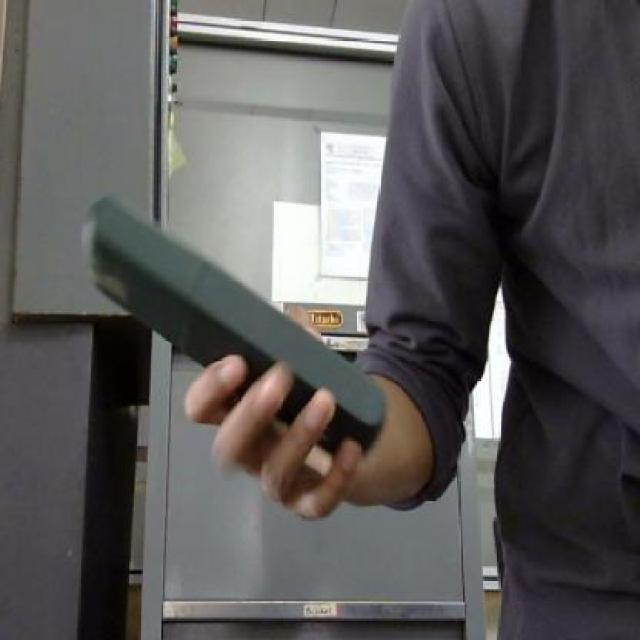Plastic: (73, 186, 393, 481)
